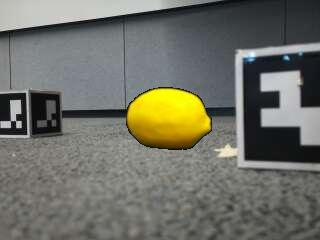lemon: (127, 89, 210, 150)
